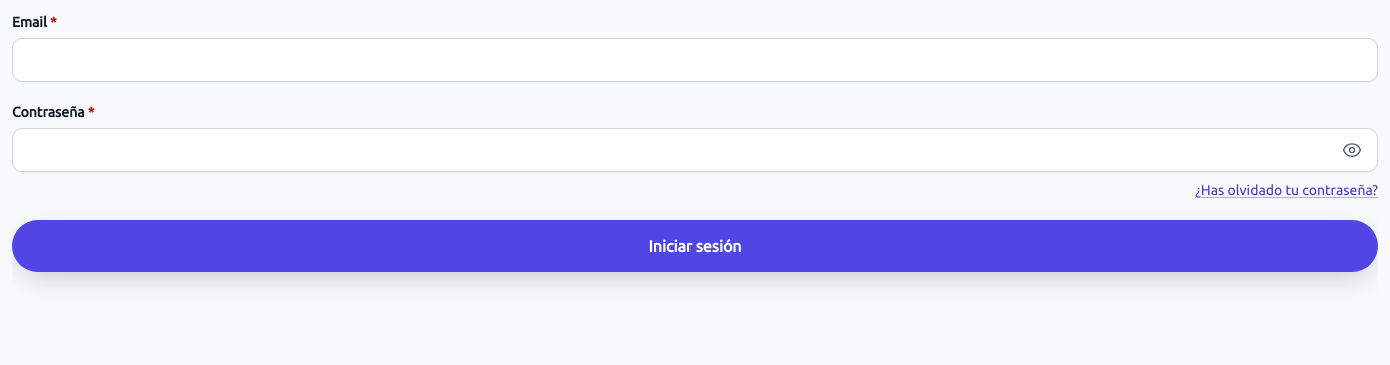
LoginForm › muestra el error del servidor si las credenciales no son válidas
In the field labelled "Email *": (695, 60) [12, 38, 1378, 82], type "ana@example.com"
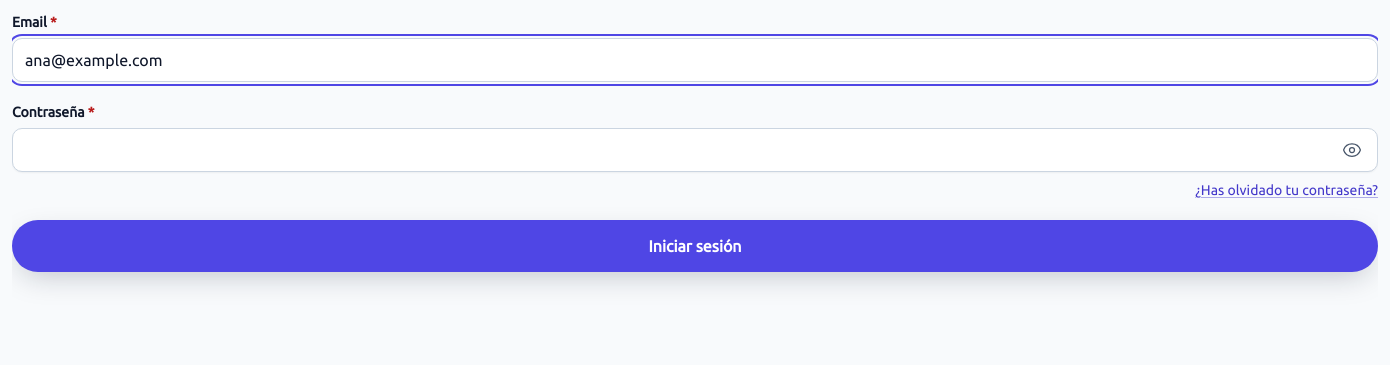
In the password field labelled "Contraseña *": (695, 150) [12, 128, 1378, 172], type "mala1234"
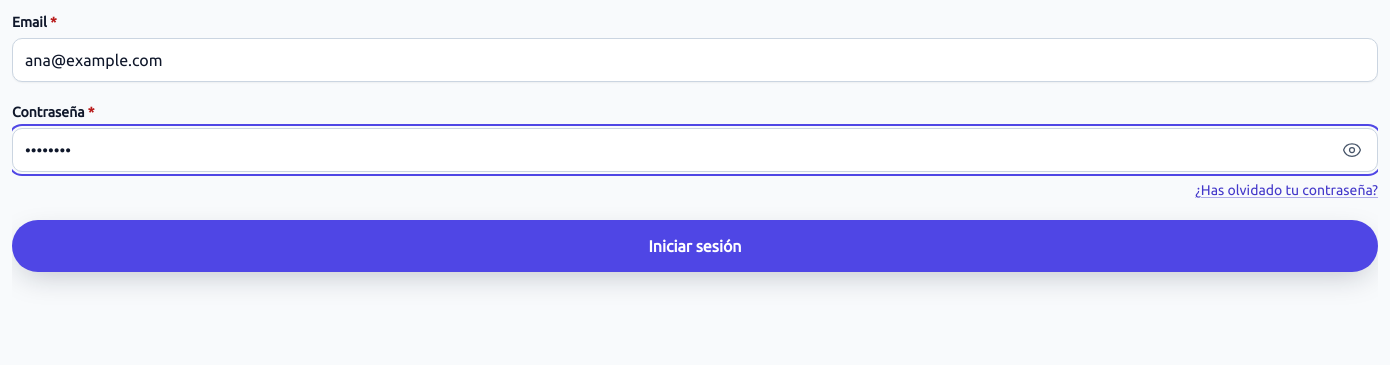
Click the button "Iniciar sesión": click(695, 246) [12, 220, 1378, 272]
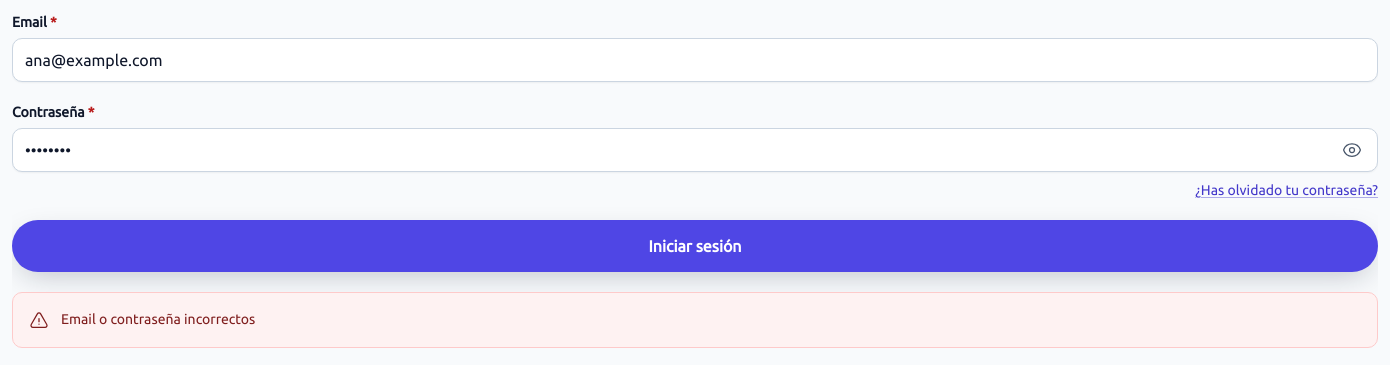
expect the text "Email o contraseña incorrectos" is shown: met, box [61, 311, 255, 327]
